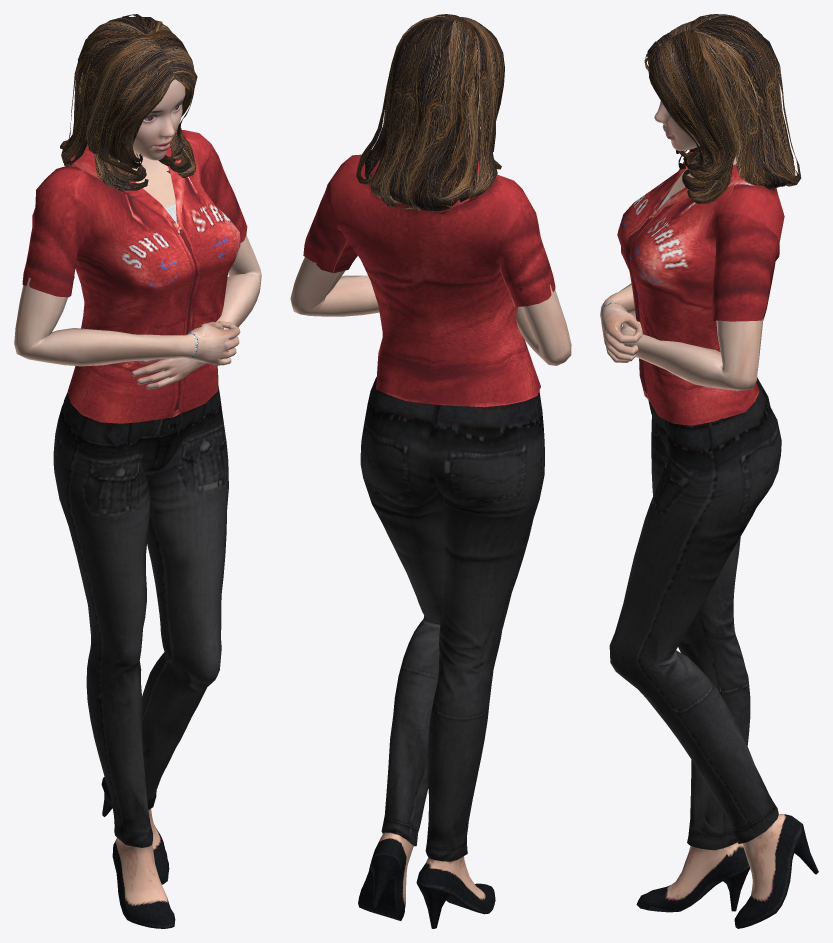
The model's file is woman3.fbx.
The picture shows the model from 3 angles, left to right: view 1: azimuth 30°, elevation 25°; view 2: azimuth 150°, elevation 25°; view 3: azimuth 270°, elevation 25°; orthographic projection. The views are drawn at different scales.
Visible parts, largest first — view 1: Female3_3; view 2: Female3_3; view 3: Female3_3.
Boxes of the visible parts, x1=… form: Female3_3: x1=14, y1=14, x2=261, y2=928; Female3_3: x1=290, y1=14, x2=571, y2=928; Female3_3: x1=600, y1=14, x2=818, y2=928.
Size of the model in its own units: 5312 by 17478 by 3896.
